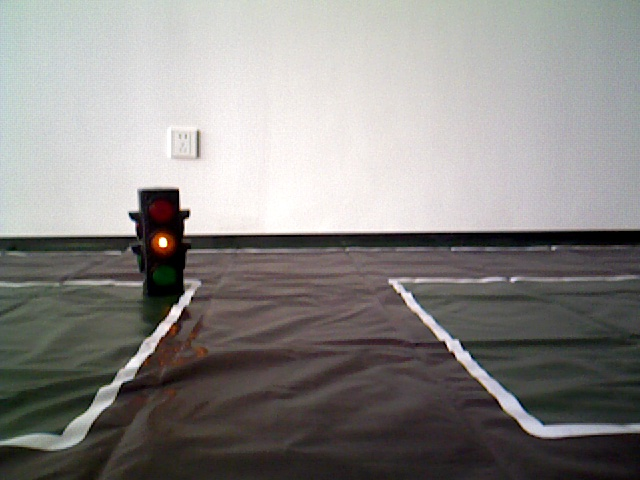yellow: (130, 188, 191, 297)
